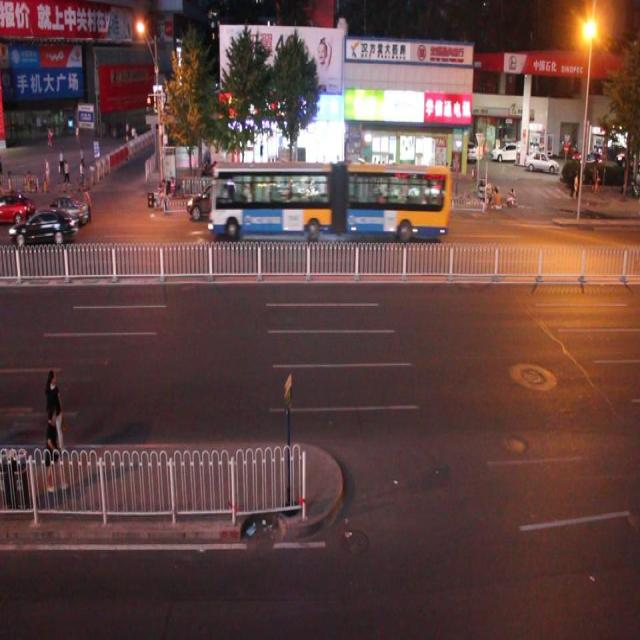car: (9, 206, 78, 249), (184, 176, 237, 219), (32, 188, 89, 226)
van: (208, 160, 450, 241)
